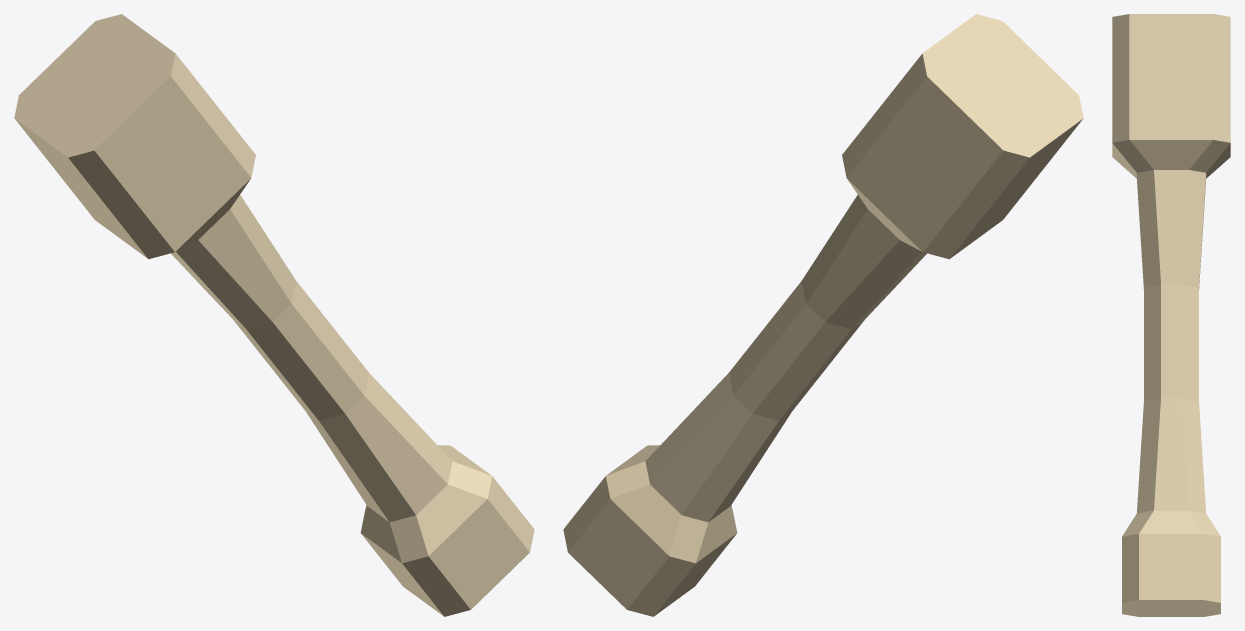
The model's file is bone.fbx.
The picture shows the model from 3 angles, left to right: view 1: azimuth 30°, elevation 25°; view 2: azimuth 150°, elevation 25°; view 3: azimuth 270°, elevation 25°; orthographic projection. The views are drawn at different scales.
Parts seen in each view (by area): view 1: Cube.001; view 2: Cube.001; view 3: Cube.001.
Boxes of the visible parts, x1,y1,x2,y2 form: Cube.001: (14, 14, 534, 616); Cube.001: (563, 14, 1083, 616); Cube.001: (1112, 14, 1230, 616).
Size of the model in its own units: 23.71 by 30.44 by 6.56.
